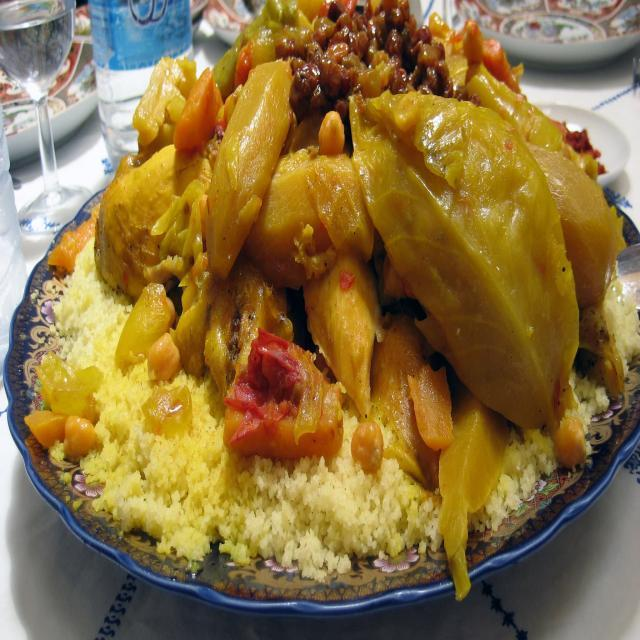Couscous: (27, 0, 640, 583)
